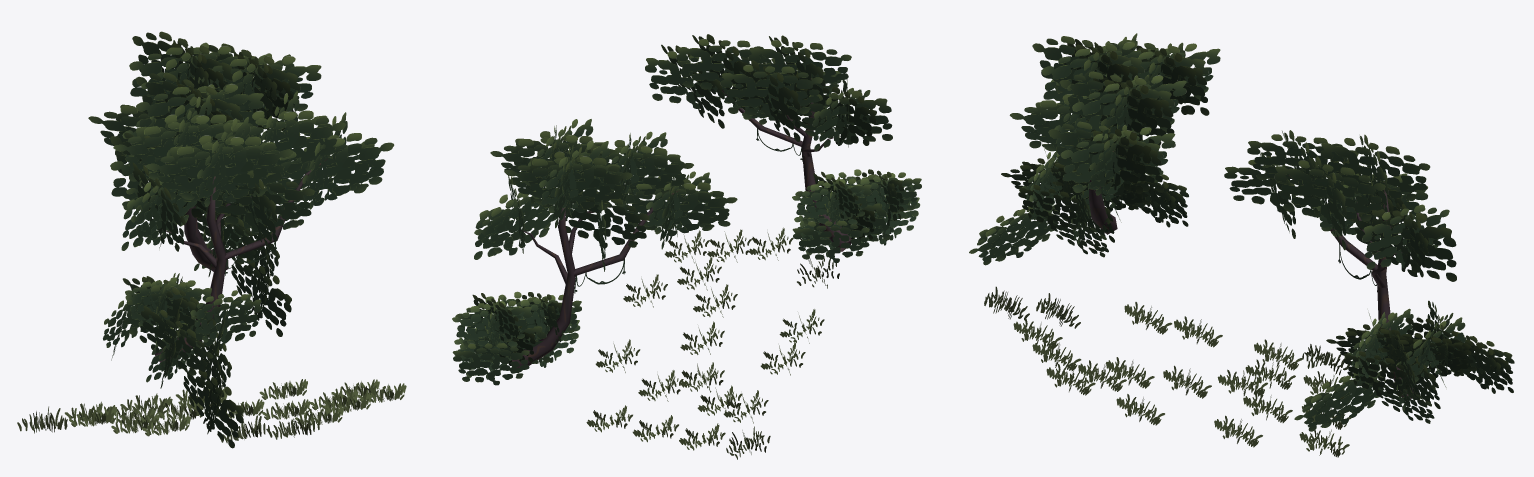
The model's file is Pantano04.fbx.
3 views of the same model, side by side, from view 1: azimuth 30°, elevation 25°; view 2: azimuth 150°, elevation 25°; view 3: azimuth 270°, elevation 25° (orthographic). The views are drawn at different scales.
Parts seen in each view (by area): view 1: Pantano04; view 2: Pantano04; view 3: Pantano04.
Boxes of the visible parts, <box> form: Pantano04: <box>17,31,406,448</box>; Pantano04: <box>452,34,921,459</box>; Pantano04: <box>969,33,1514,457</box>.
Bounding box in the file's own units: 73.64 × 74.21 × 102.
